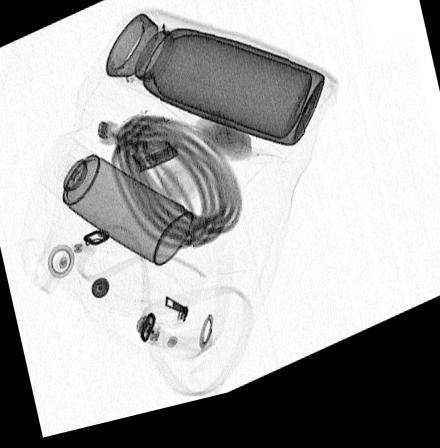Sprayer: (35, 136, 196, 274)
